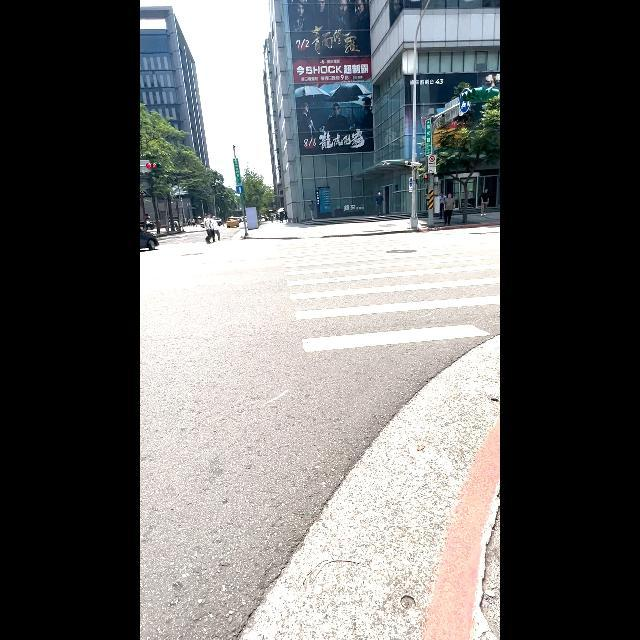sidewalk: (275, 228, 500, 355)
